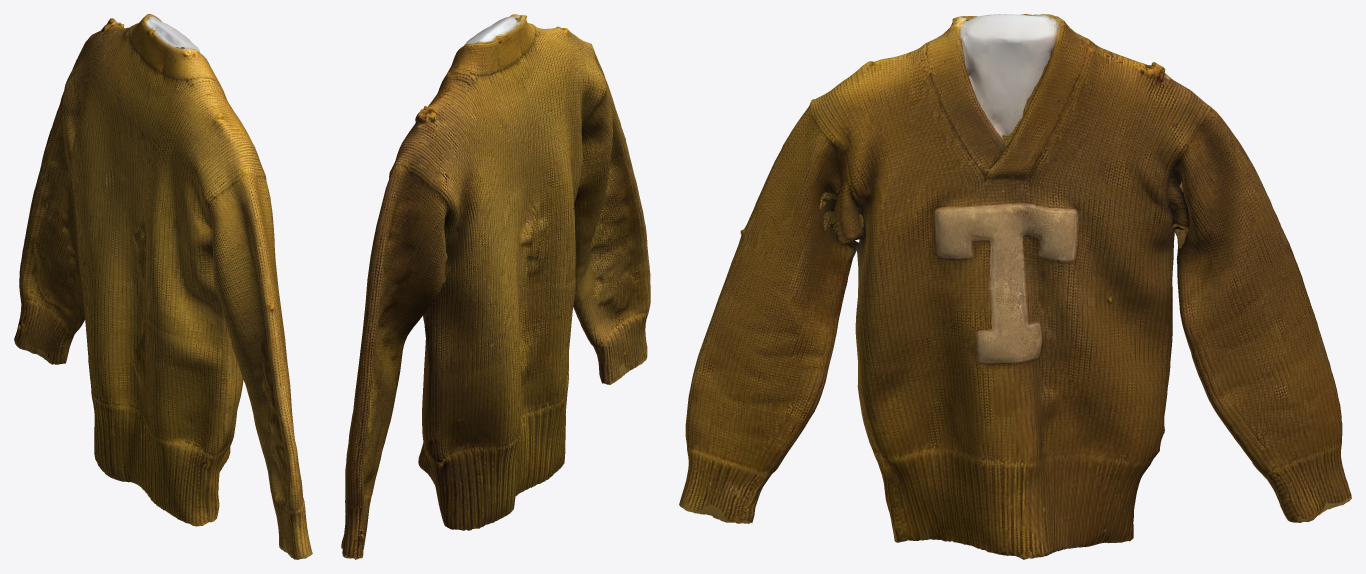
Rendered from t_sweater.glb.
3 views of the same model, side by side, from view 1: azimuth 30°, elevation 25°; view 2: azimuth 150°, elevation 25°; view 3: azimuth 270°, elevation 25° (orthographic). The views are drawn at different scales.
Visible parts, largest first — view 1: mesh_lowpoly; view 2: mesh_lowpoly; view 3: mesh_lowpoly.
Boxes of the visible parts, left/top/right/bottom form: mesh_lowpoly: left=14, top=14, right=312, bottom=559; mesh_lowpoly: left=341, top=14, right=650, bottom=559; mesh_lowpoly: left=679, top=14, right=1351, bottom=559.
Size of the model in its own units: 0.6425 by 2.5 by 2.88.
Materials: 8 (8 with a texture image).
